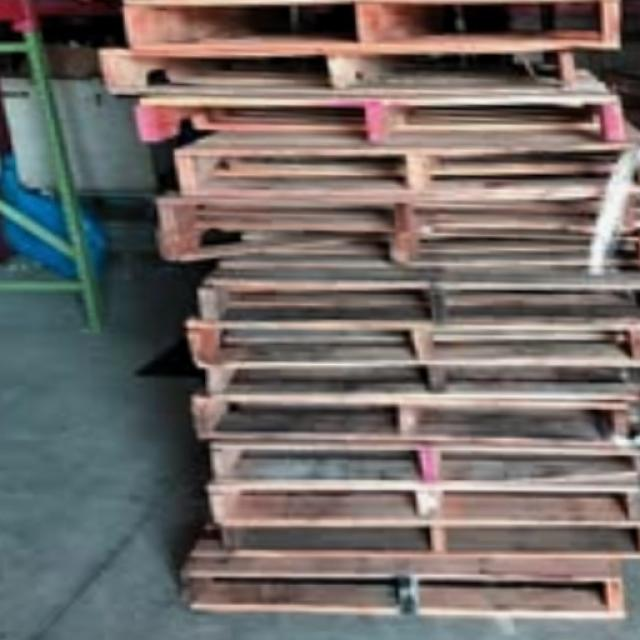non-igps: (168, 538, 636, 640), (150, 180, 640, 273), (123, 80, 635, 160), (163, 125, 640, 210), (179, 378, 640, 461), (186, 258, 640, 335), (115, 0, 626, 65), (90, 42, 583, 109), (197, 342, 640, 414), (177, 311, 640, 379), (200, 468, 640, 537), (202, 434, 640, 497), (212, 513, 640, 572)
